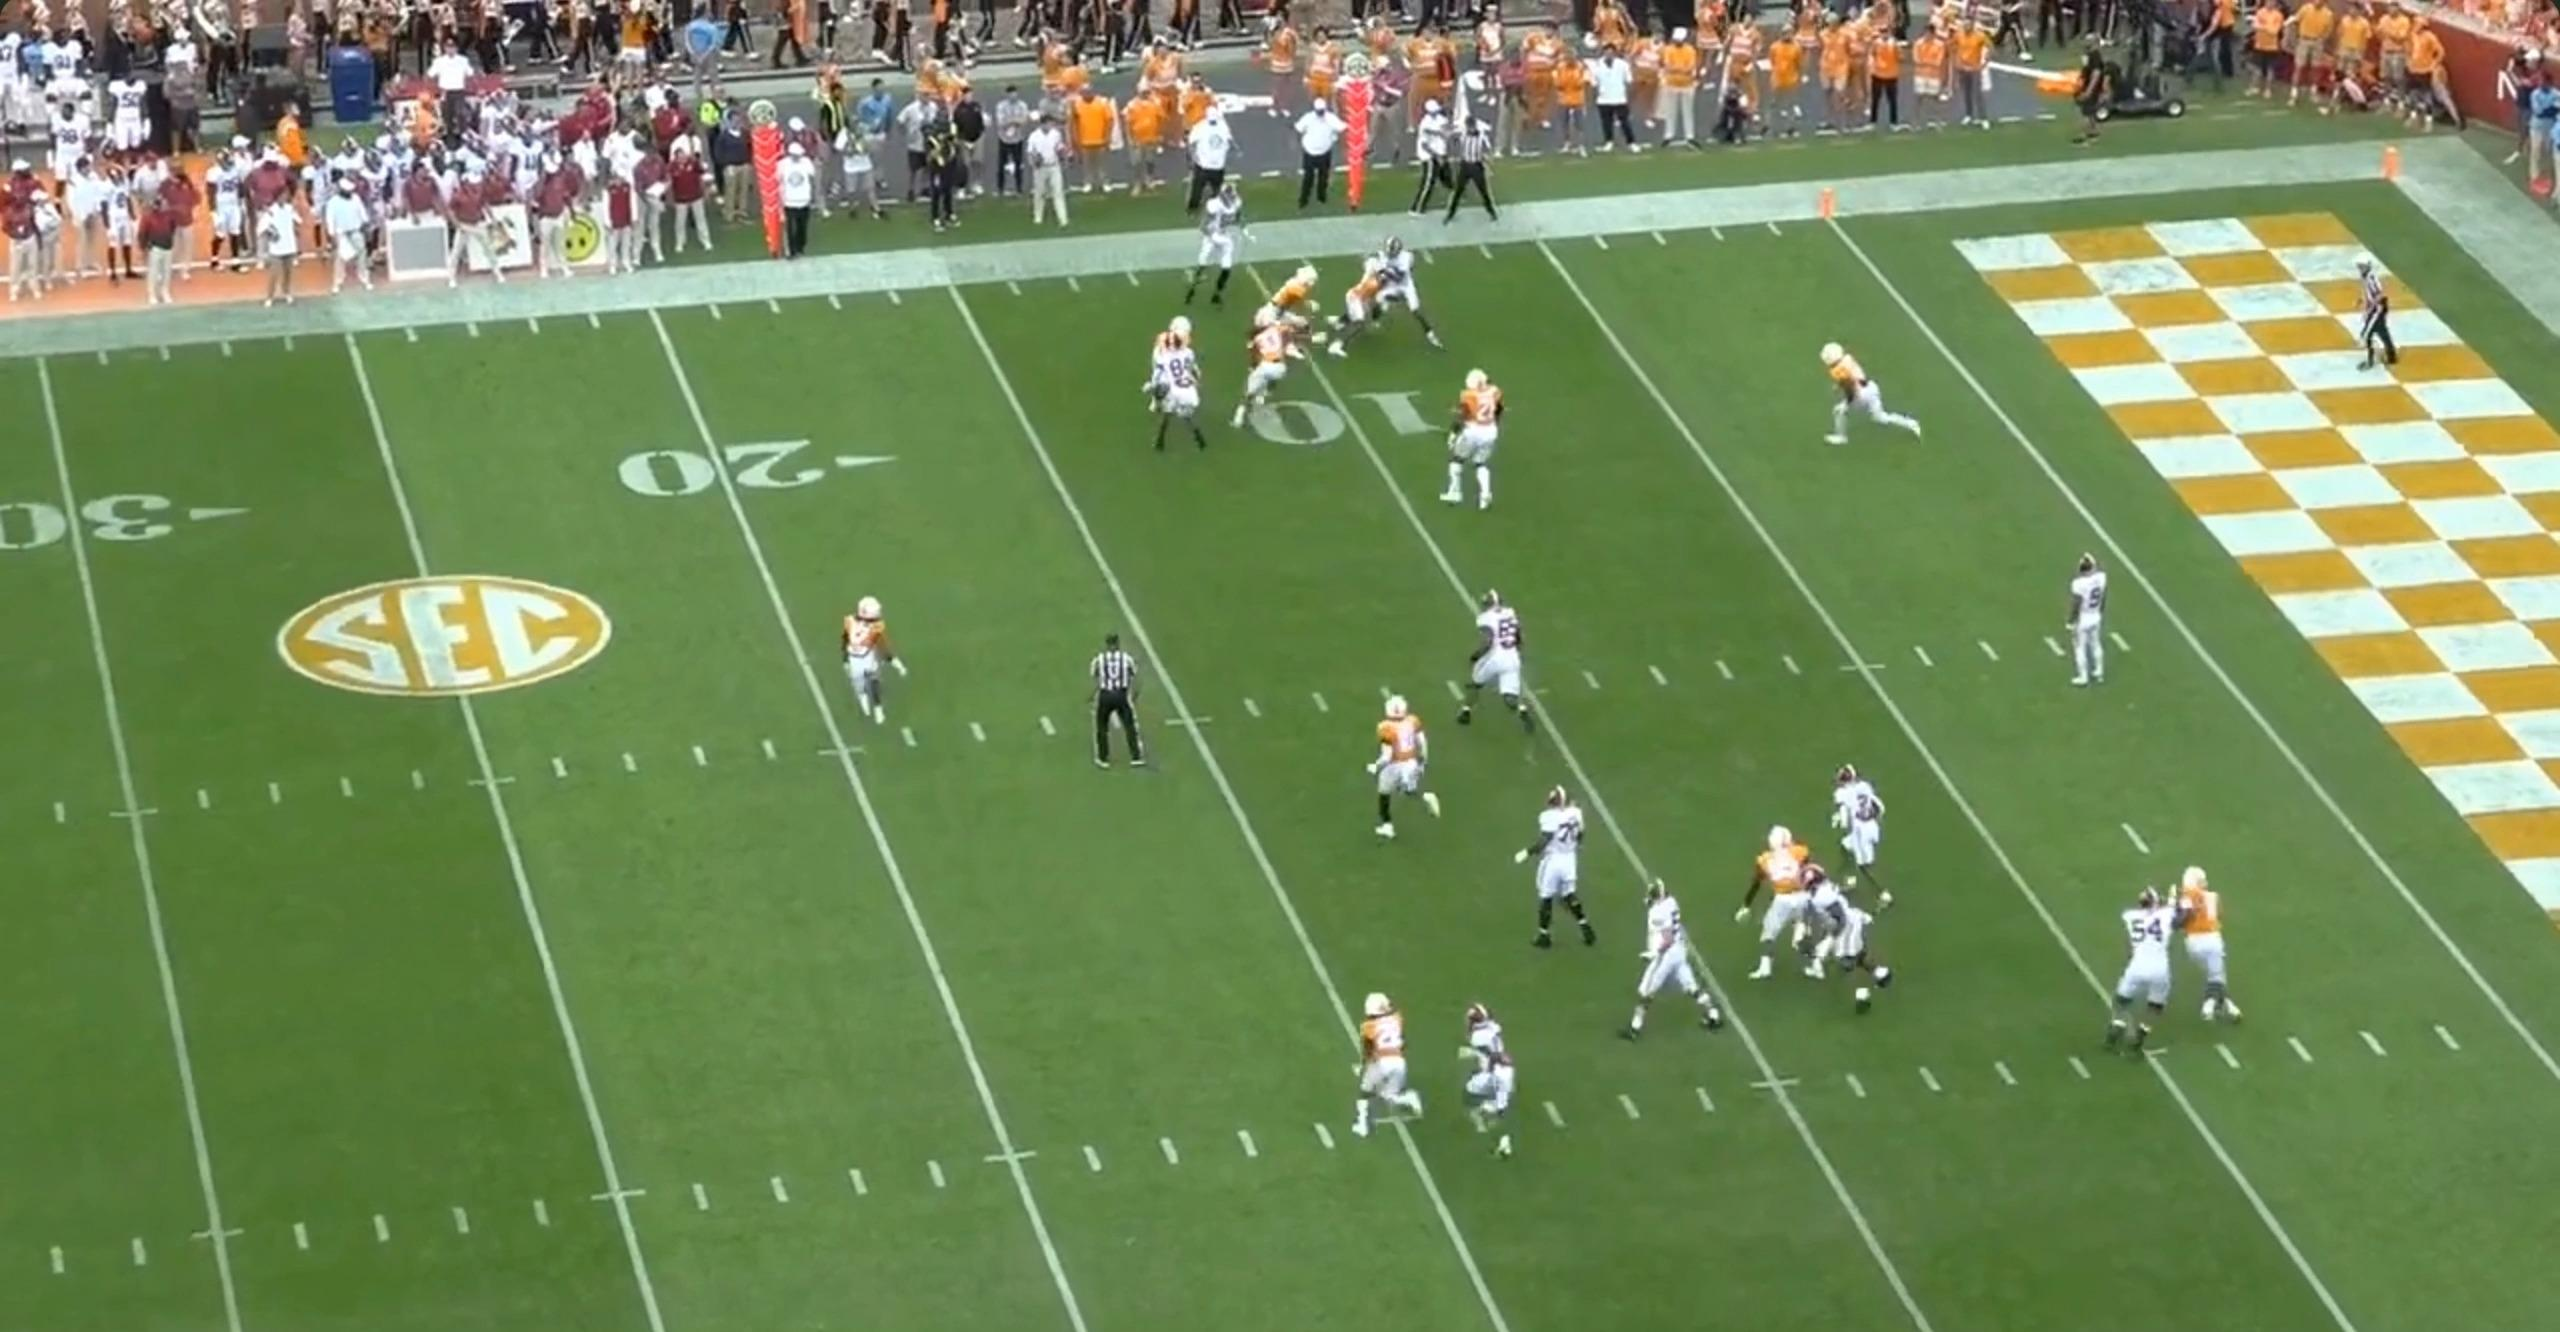defense: (1732, 819, 1820, 987), (1338, 990, 1422, 1142), (2169, 865, 2243, 1034), (1371, 689, 1451, 846), (1815, 339, 1925, 452), (1439, 366, 1507, 518), (828, 591, 901, 729), (1317, 249, 1399, 359), (1239, 305, 1310, 427), (1243, 257, 1324, 361), (1141, 315, 1202, 418)
oline: (1614, 878, 1724, 1044), (1791, 865, 1900, 1014), (1524, 784, 1612, 961), (2103, 880, 2191, 1054), (1453, 587, 1534, 735)
qb: (2052, 555, 2115, 701)
ref: (1090, 633, 1161, 782), (2357, 250, 2409, 388), (1436, 112, 1495, 227)
skill: (1453, 995, 1522, 1164), (1827, 765, 1903, 916), (1134, 339, 1207, 464), (1383, 237, 1451, 350), (1192, 188, 1248, 310)
